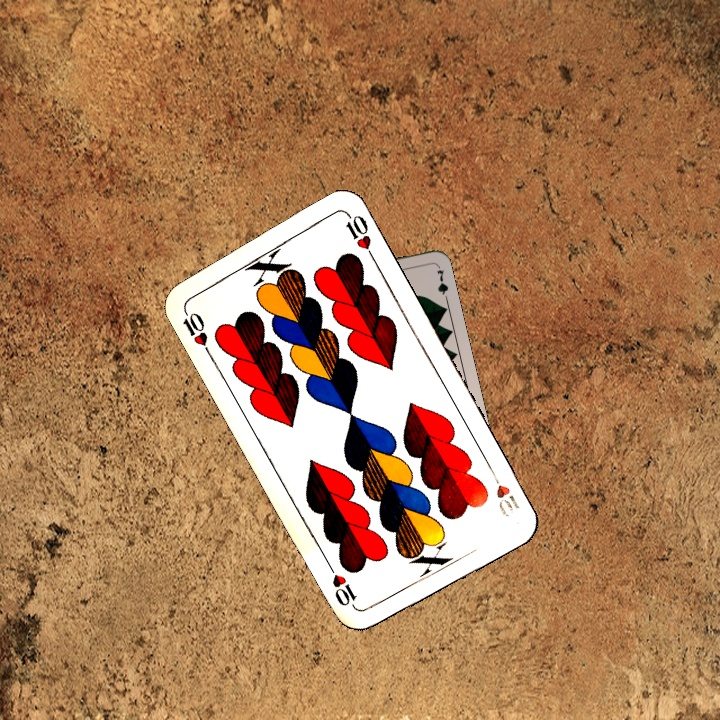H10: (486, 464, 523, 520), (178, 303, 214, 358)
